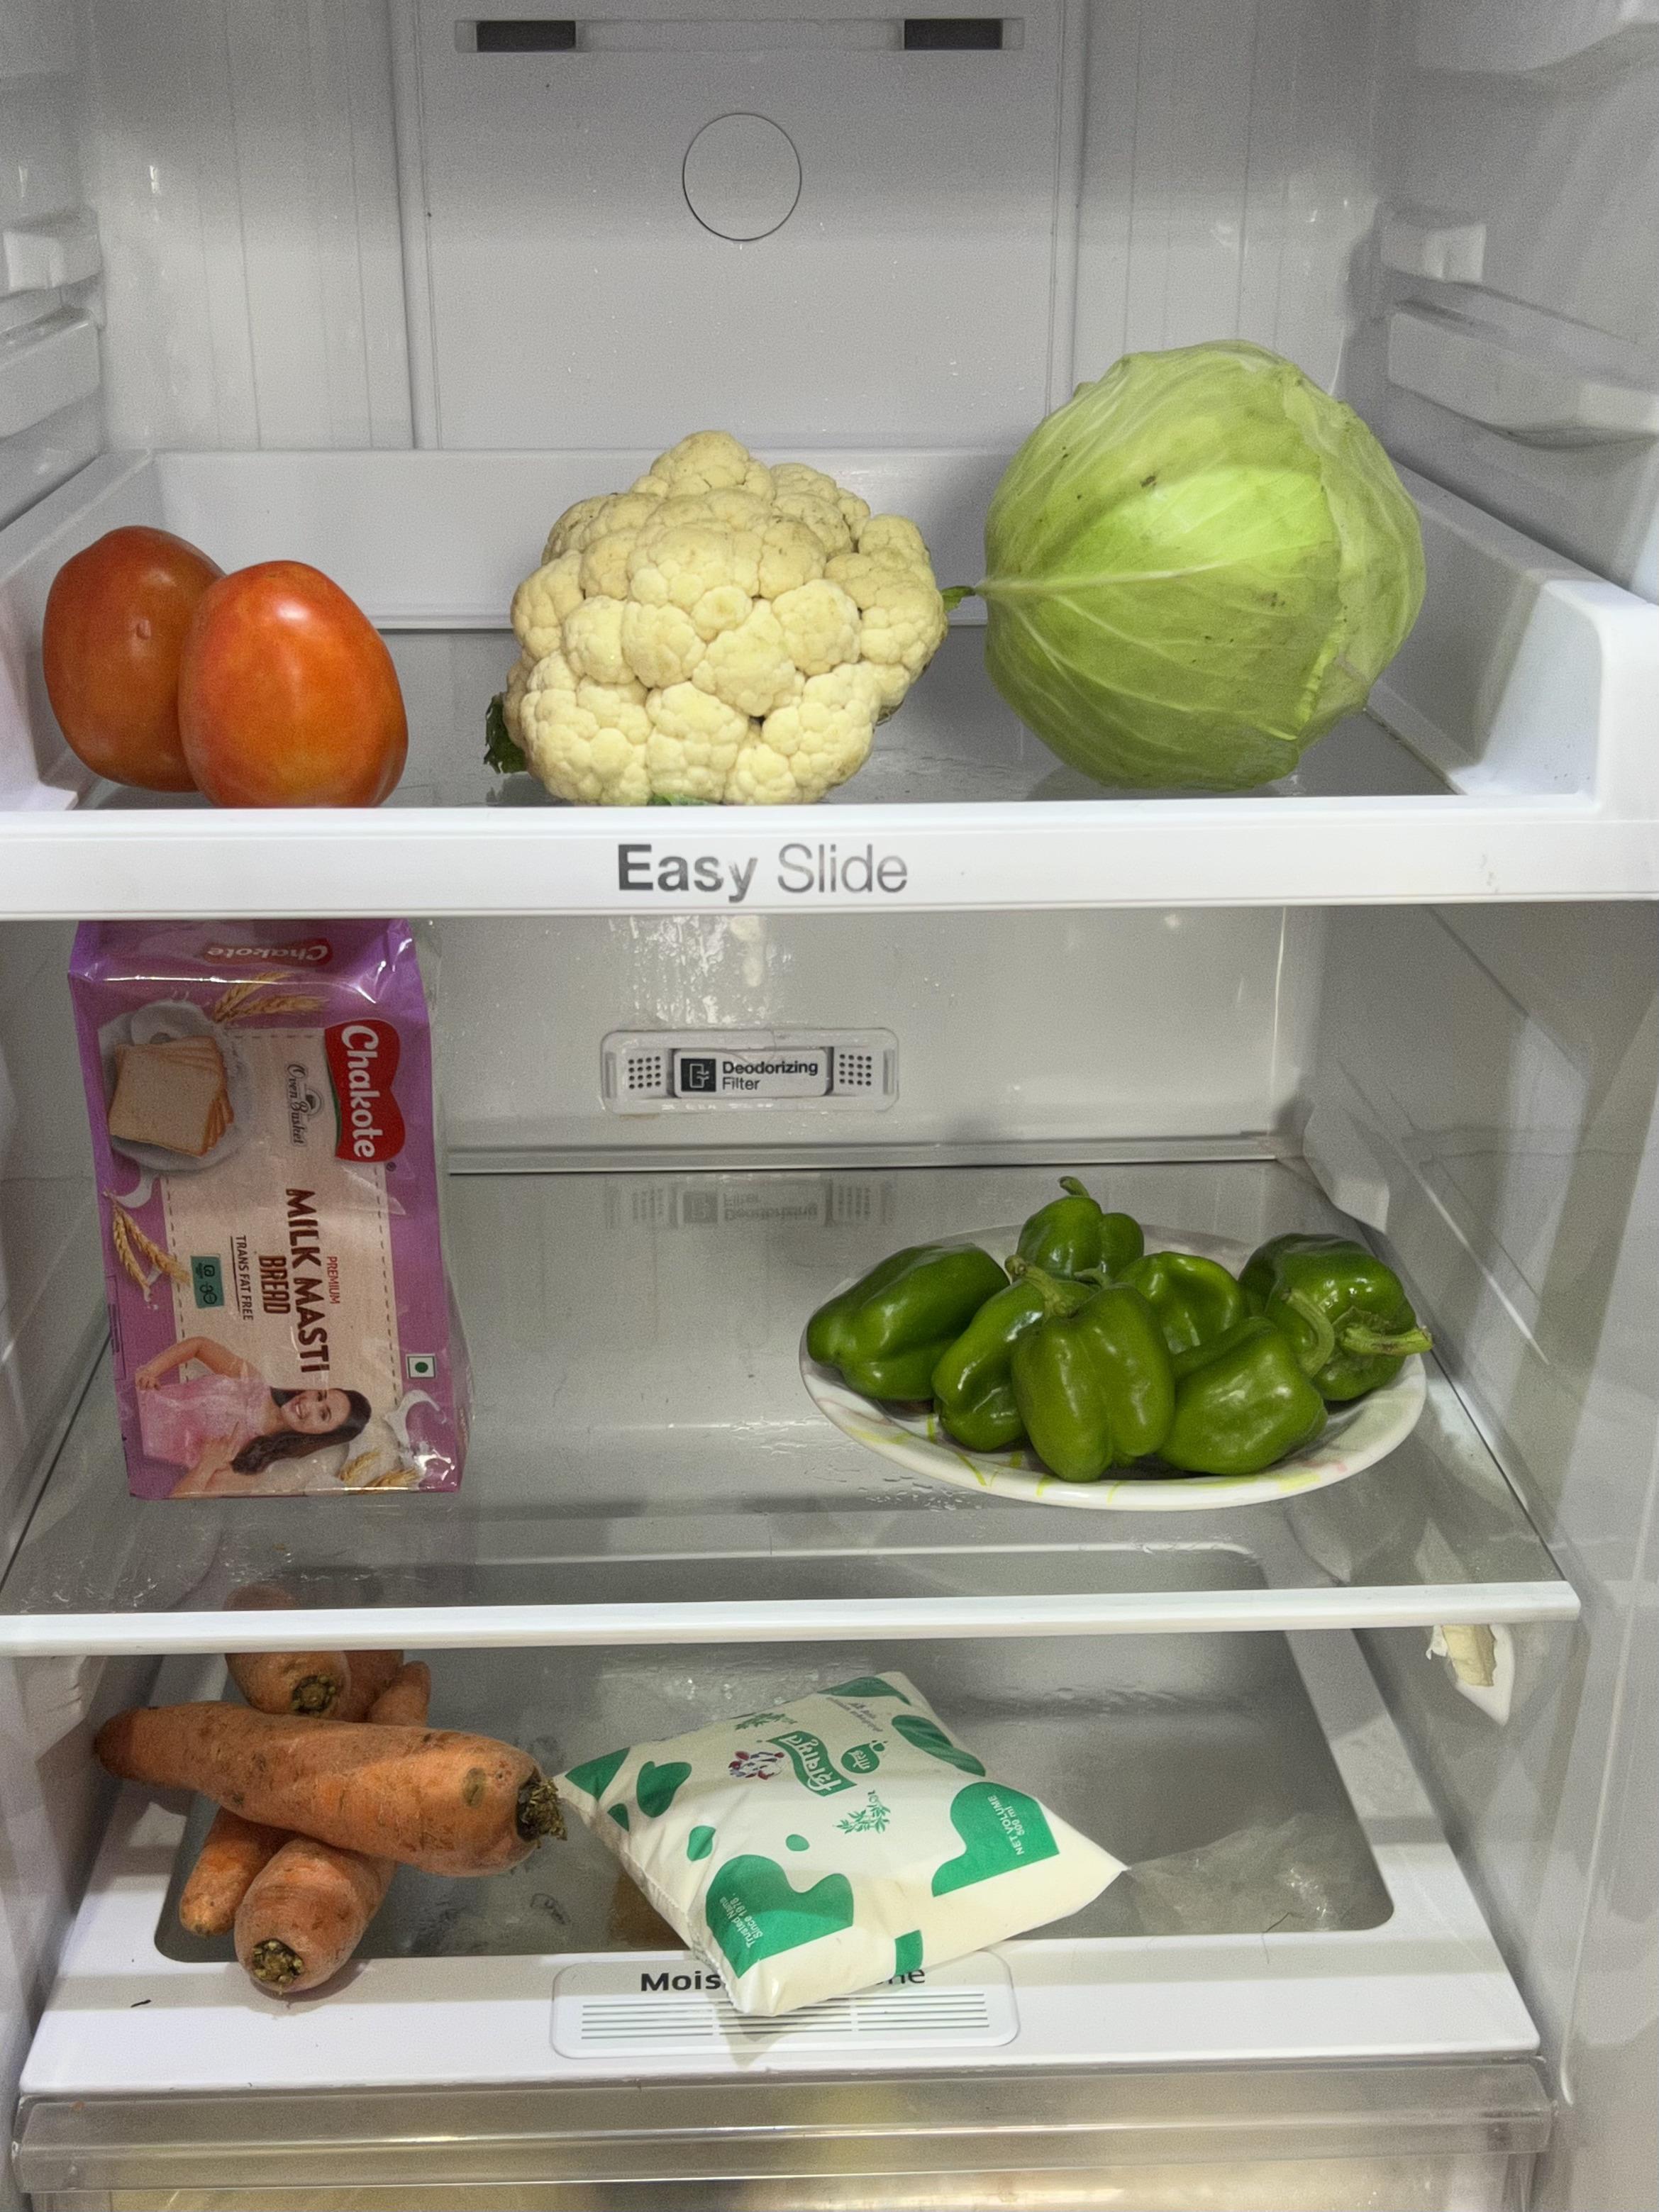bread: (40, 913, 525, 1505)
cabbage: (983, 331, 1422, 775)
capsicum: (812, 1177, 1446, 1493)
carrots: (85, 1627, 556, 1989)
cauliflower: (507, 423, 938, 806)
milk: (570, 1674, 1124, 1996)
tomato: (37, 521, 418, 810)
